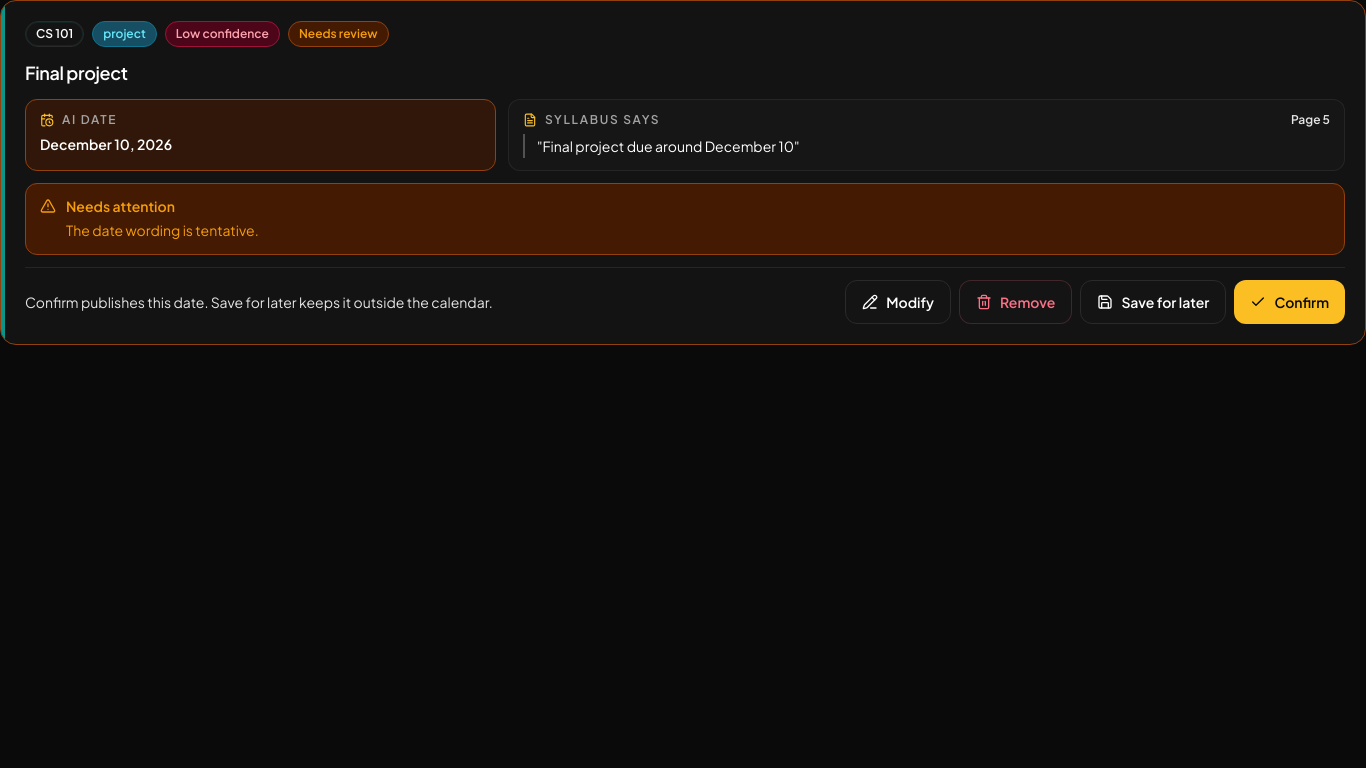
Test case: modifies the title and date inline without changing review status
The image size is (1366, 768).
Click the button with aria-label "Modify Final project": (898, 302) [845,280,951,324]
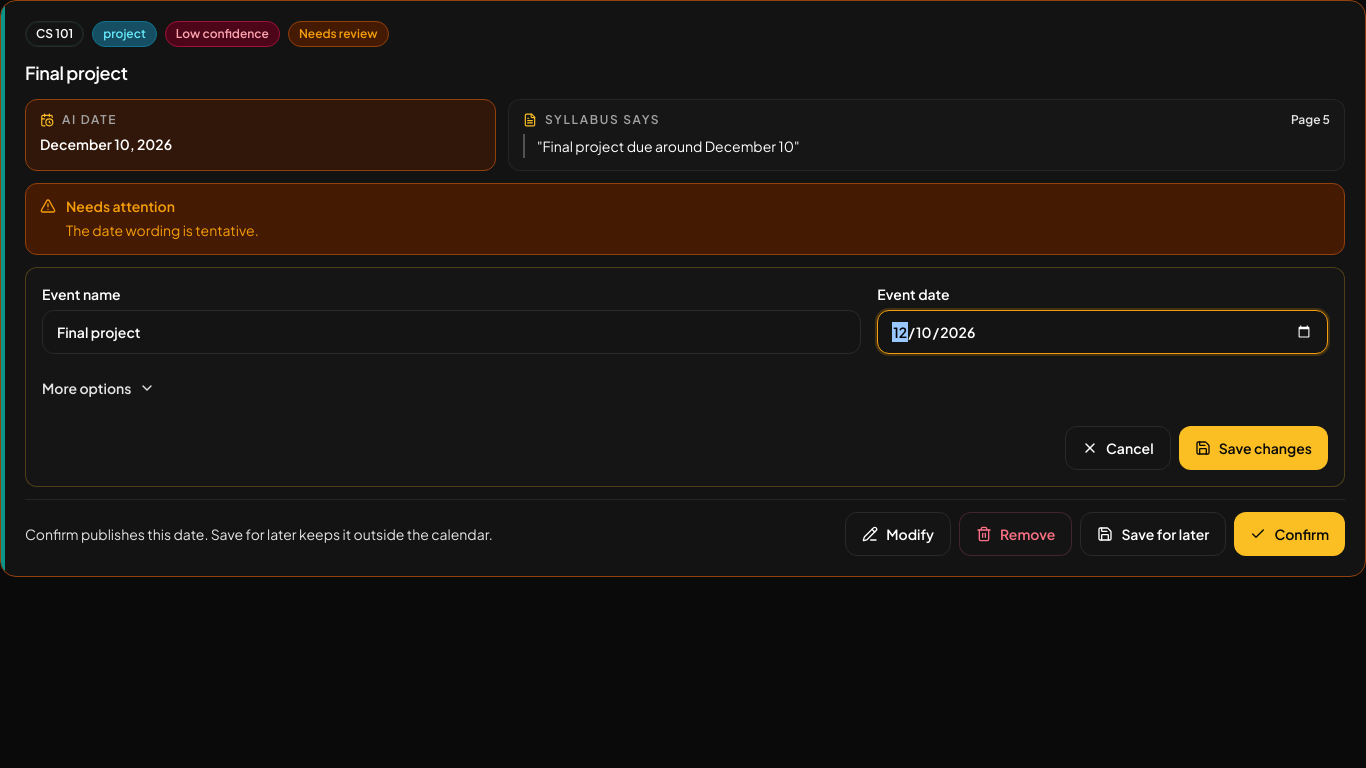
Replace the text in the field labelled "Event name" with "Final presentation": (452, 332) [42,310,861,354]
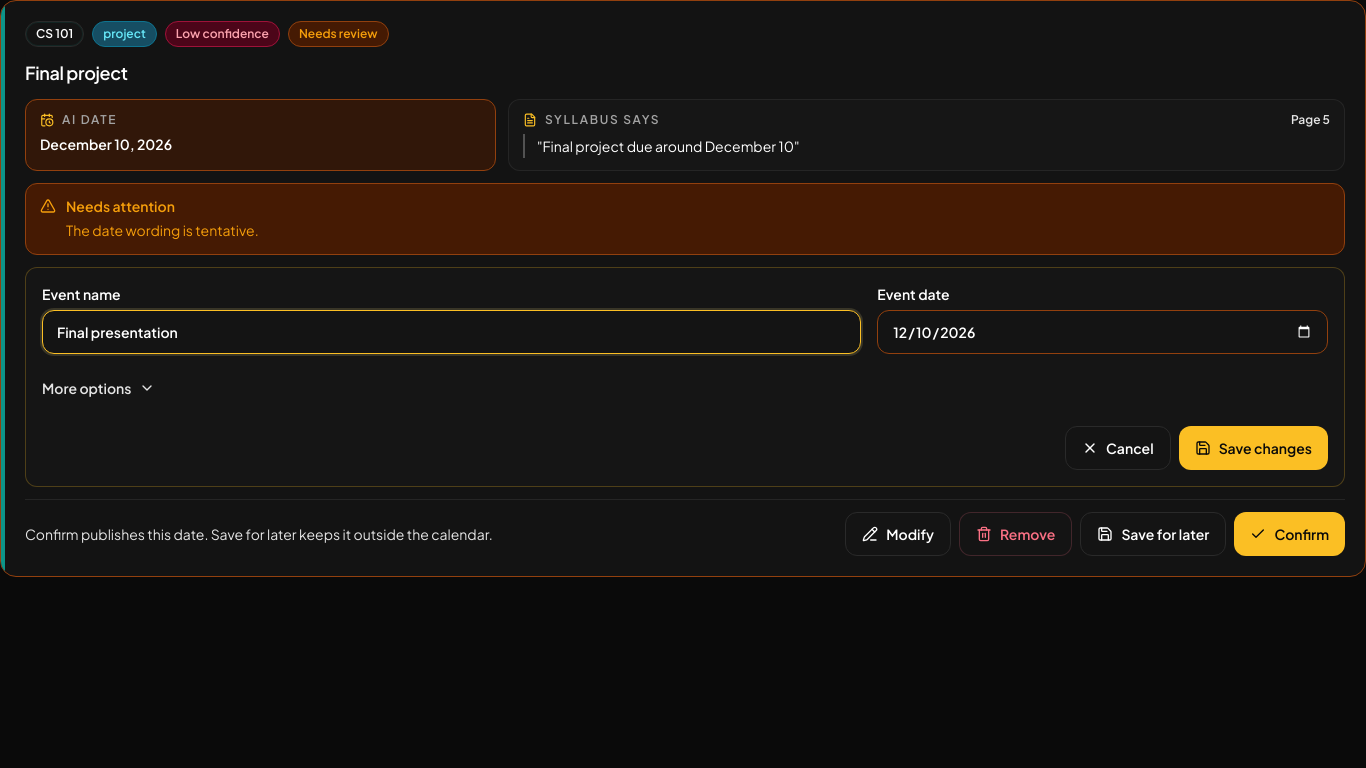
In the date field labelled "Event date": (1103, 332) [877,310,1328,354], type "2026-12-12"
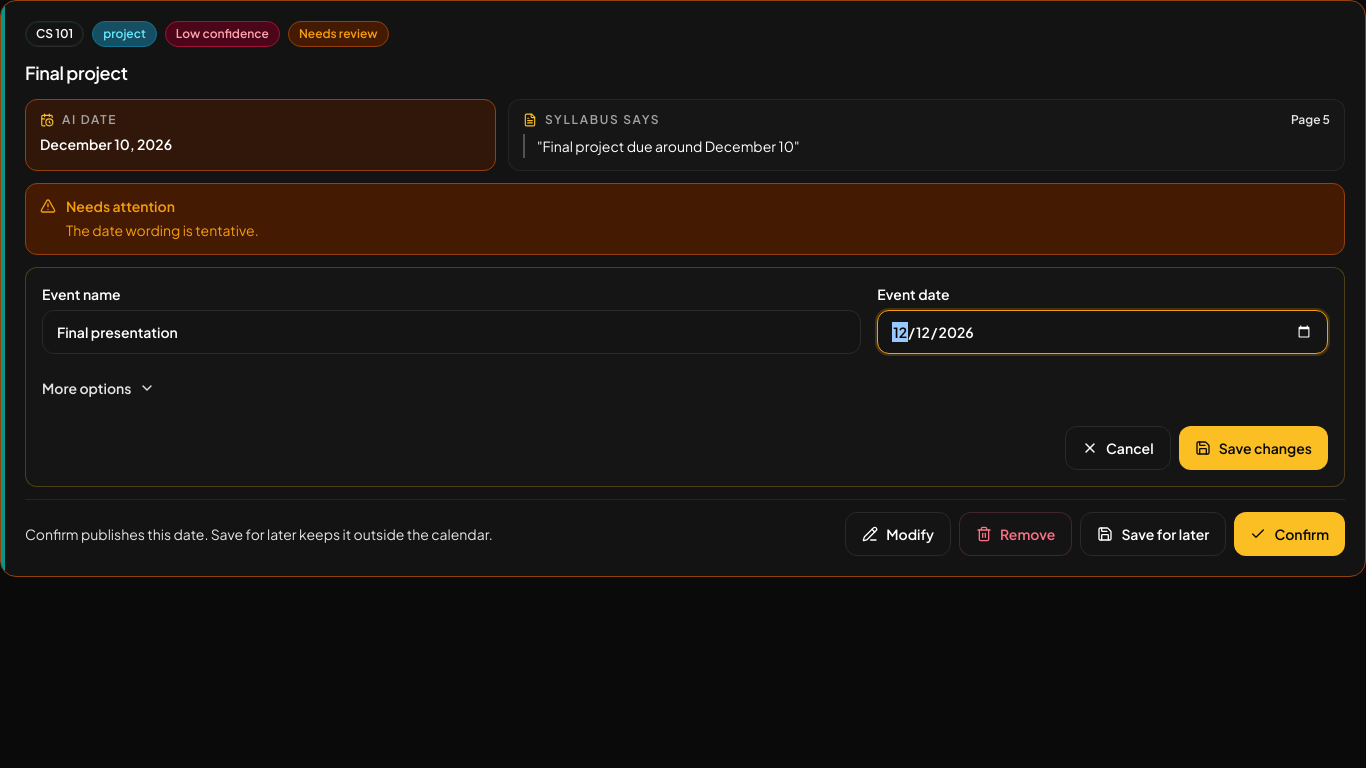
Click the button "Save changes": (1253, 448) [1179,426,1328,470]
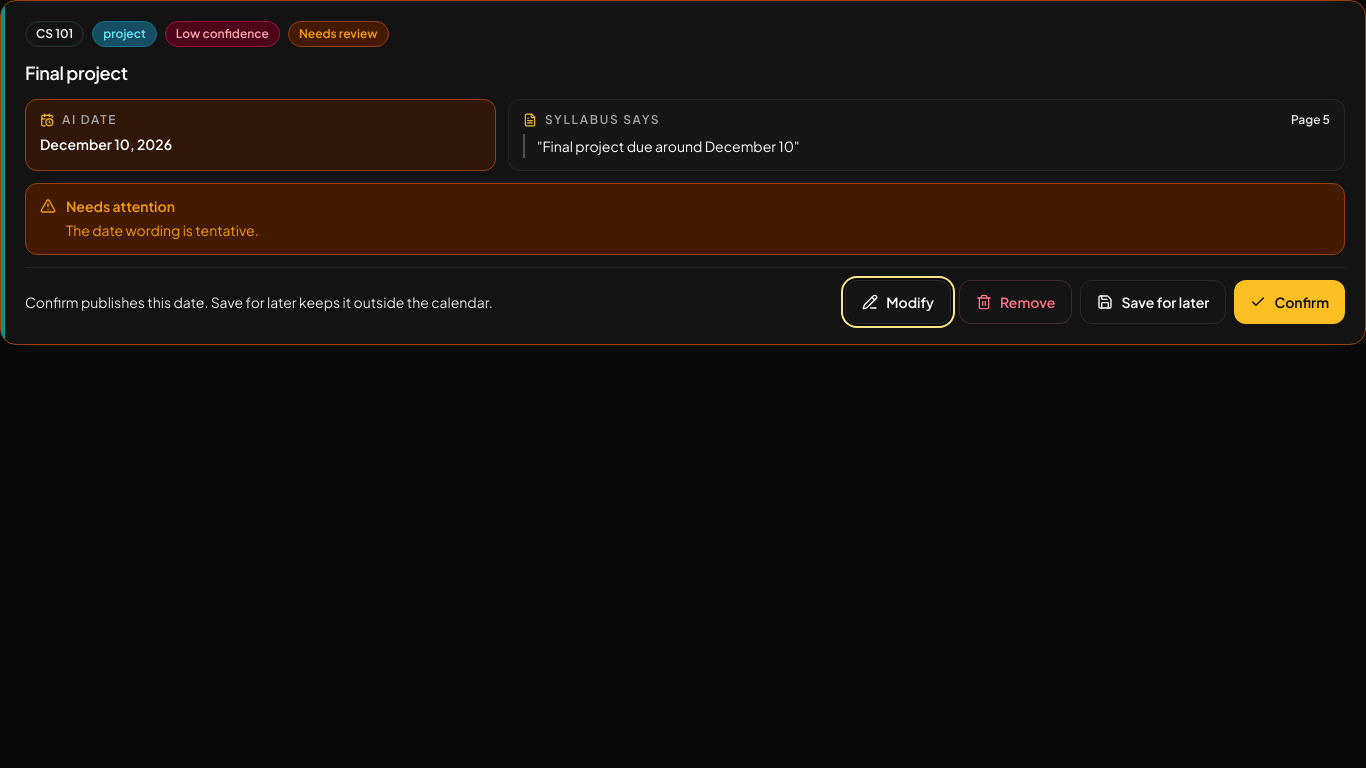
Check: the label labelled "Event name" is gone
